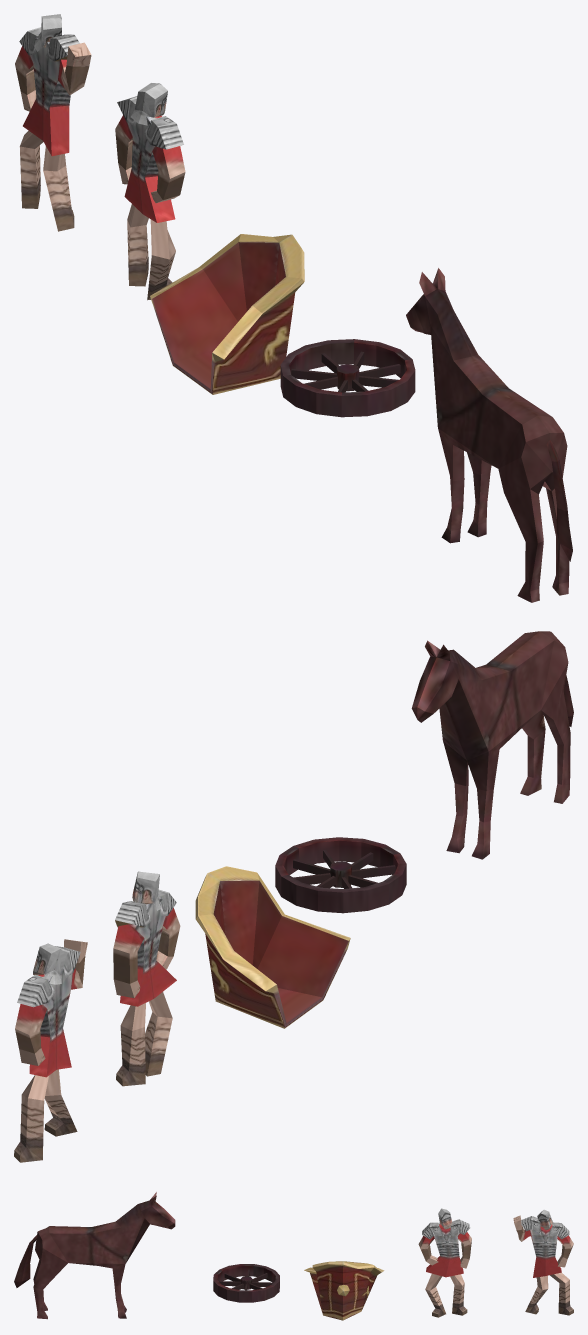
File: GarbageEnemyChariot_5items.fbx
3 views of the same model, one above another, from view 1: azimuth 30°, elevation 25°; view 2: azimuth 150°, elevation 25°; view 3: azimuth 270°, elevation 25° (orthographic). The views are drawn at different scales.
Visible parts, largest first — view 1: Horse, Cart, Chariot1, Chariot2, Wheel; view 2: Horse, Cart, Chariot1, Chariot2, Wheel; view 3: Horse, Chariot1, Chariot2, Cart, Wheel.
Boxes of the visible parts, x1,y1,x2,y2 form: Horse: (406, 268, 572, 602); Cart: (150, 234, 304, 394); Chariot1: (115, 83, 185, 300); Chariot2: (15, 14, 91, 231); Wheel: (280, 339, 415, 417); Horse: (411, 631, 573, 859); Cart: (195, 866, 350, 1028); Chariot1: (113, 871, 180, 1086); Chariot2: (14, 939, 87, 1162); Wheel: (275, 837, 406, 913); Horse: (14, 1192, 175, 1319); Chariot1: (418, 1208, 471, 1317); Chariot2: (513, 1209, 573, 1315); Cart: (304, 1261, 384, 1320); Wheel: (213, 1264, 279, 1302).
Size of what is drawn, in the model's own units: 9.56 by 17.03 by 71.36.
